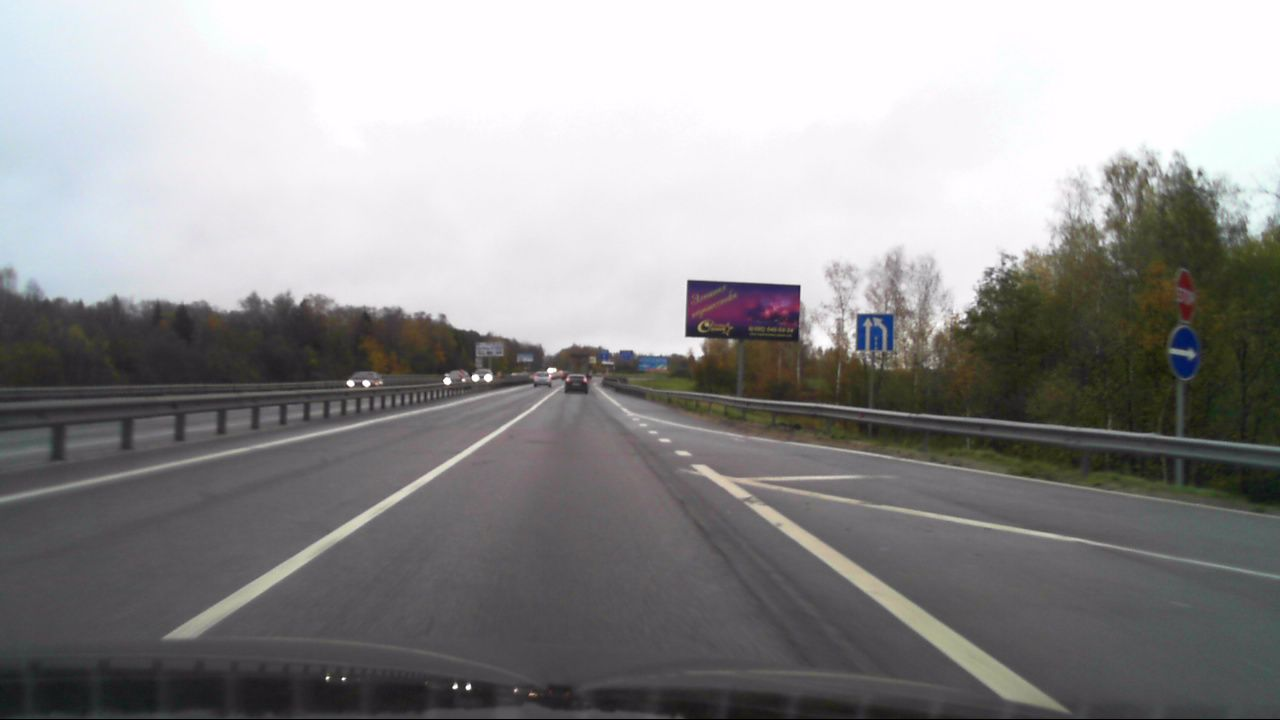Turn Right: (1167, 325, 1201, 380)
